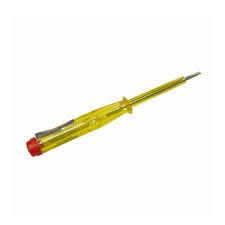screwdriver: (25, 70, 201, 156)
